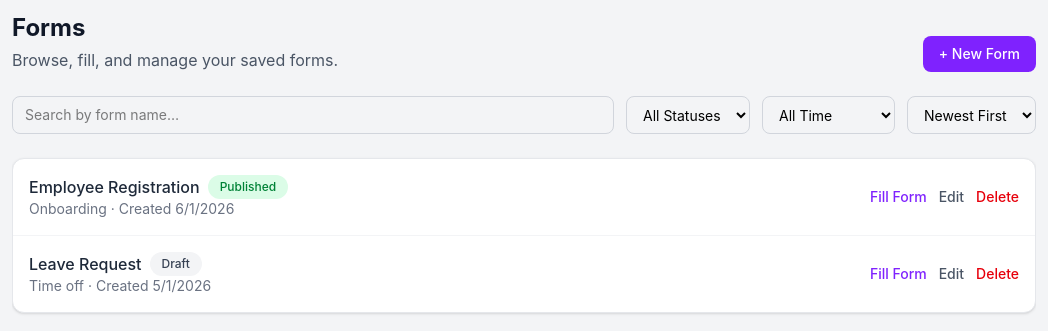
Test: Forms page (Admin) › filters by status
Expected: the text "Employee Registration" is shown, left=29, top=175, right=200, bottom=199
Select "Draft" in the dropdown named "Filter by status": (688, 115) left=626, top=96, right=750, bottom=134
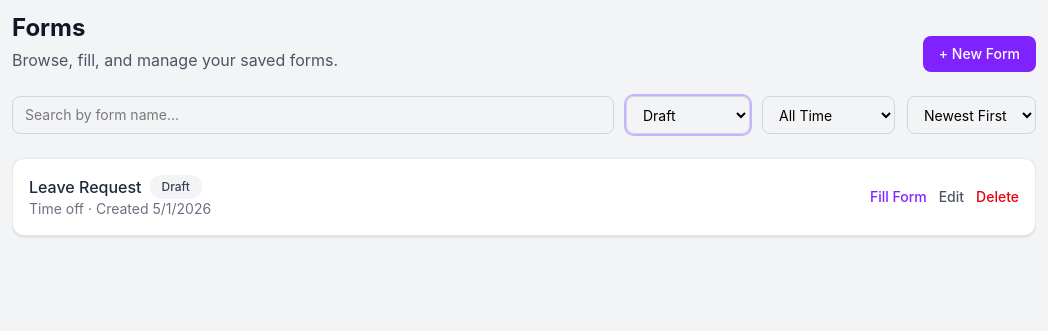
Expected: the text "Leave Request" is shown, left=29, top=175, right=142, bottom=199
Expected: the text "Employee Registration" is gone
